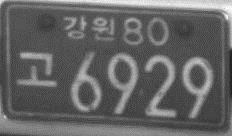0: (147, 16, 170, 46)
2: (143, 53, 177, 118)
6: (69, 50, 103, 112)
8: (122, 17, 144, 45)
9: (106, 51, 139, 114), (182, 55, 214, 118)
강원_O: (62, 13, 115, 42)
고: (15, 50, 56, 87)
